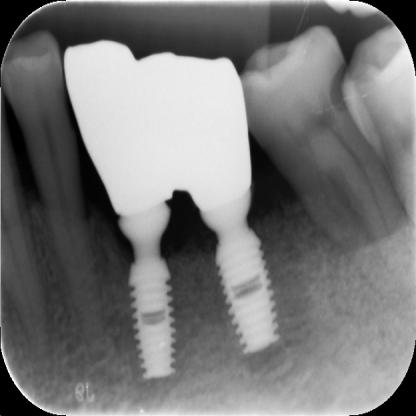Bicon: (206, 225, 284, 359), (125, 254, 177, 386)
